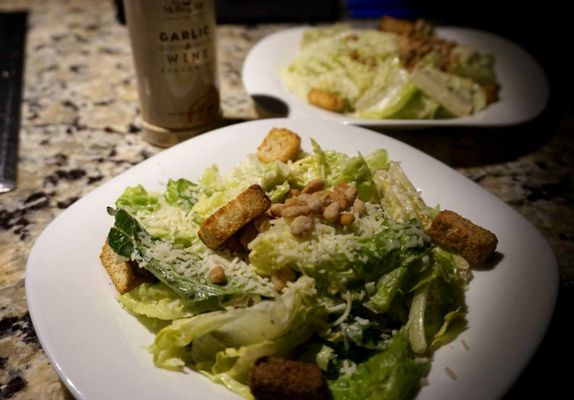sushi: (253, 17, 562, 145)
